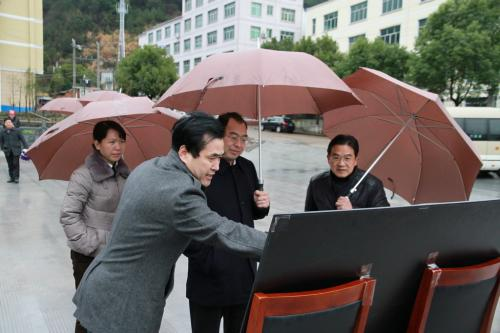person: (72, 111, 270, 333), (183, 111, 270, 333), (59, 119, 131, 333), (304, 134, 389, 210)
